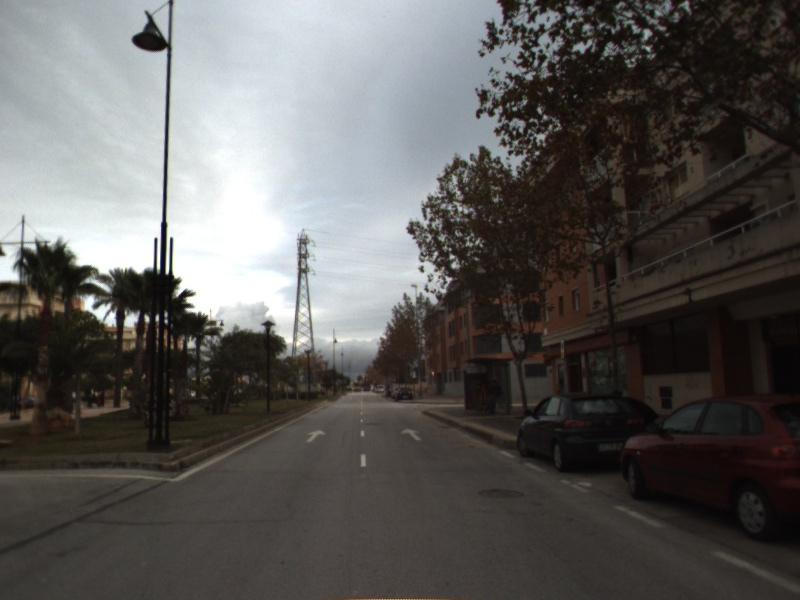STRAIGHT: (304, 427, 328, 444), (399, 426, 424, 442)
